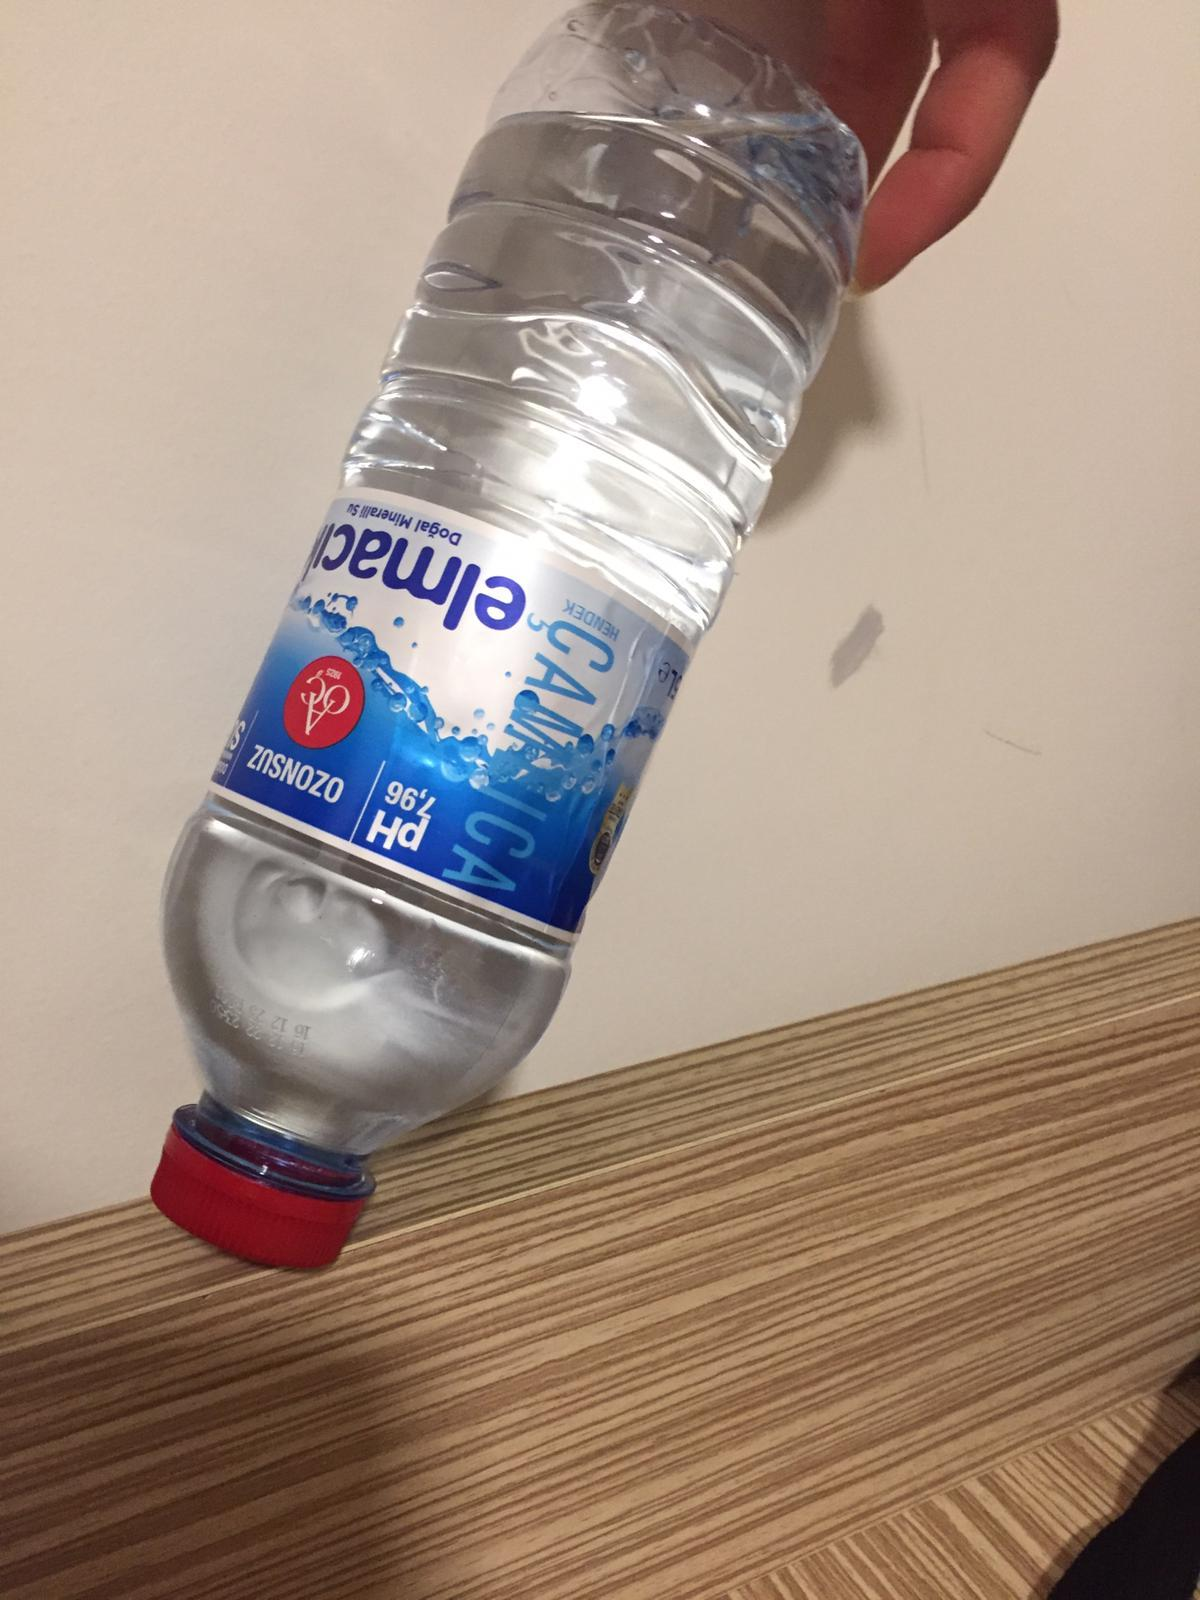bottle: (155, 1, 866, 1270)
